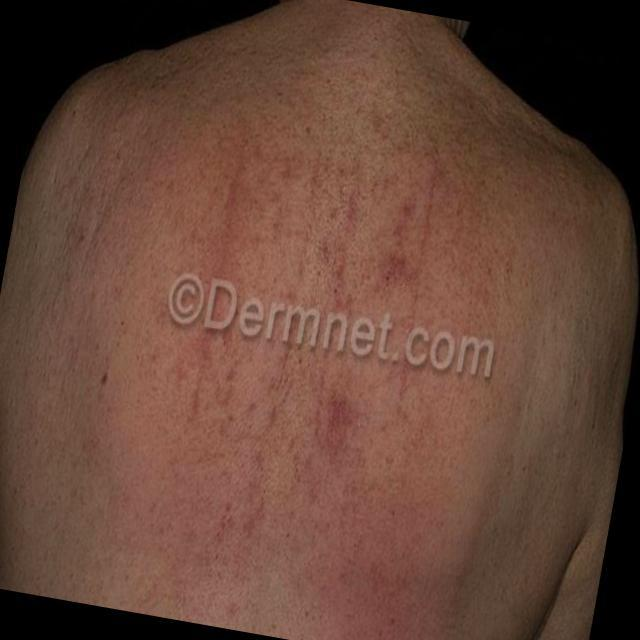Eczema: (80, 66, 567, 600)
